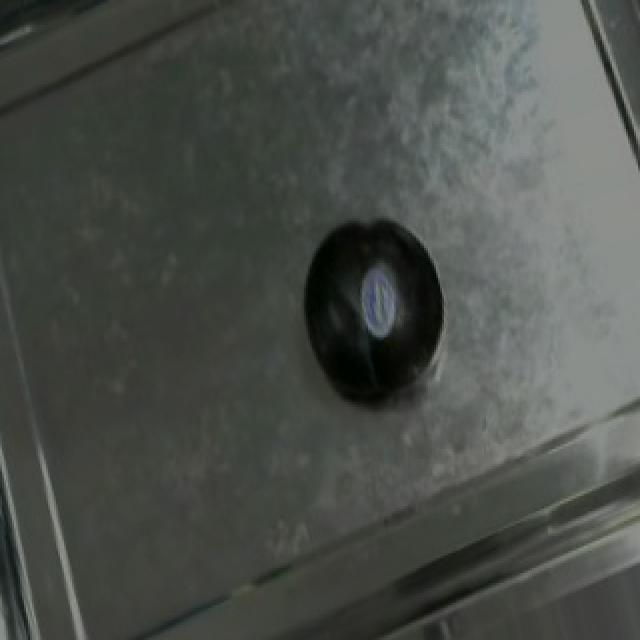Fruit: (282, 198, 472, 412)
